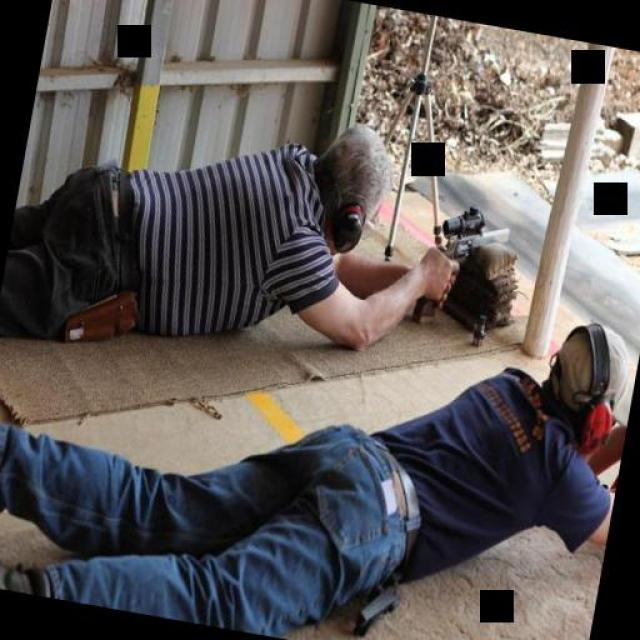gun: (410, 191, 511, 335)
